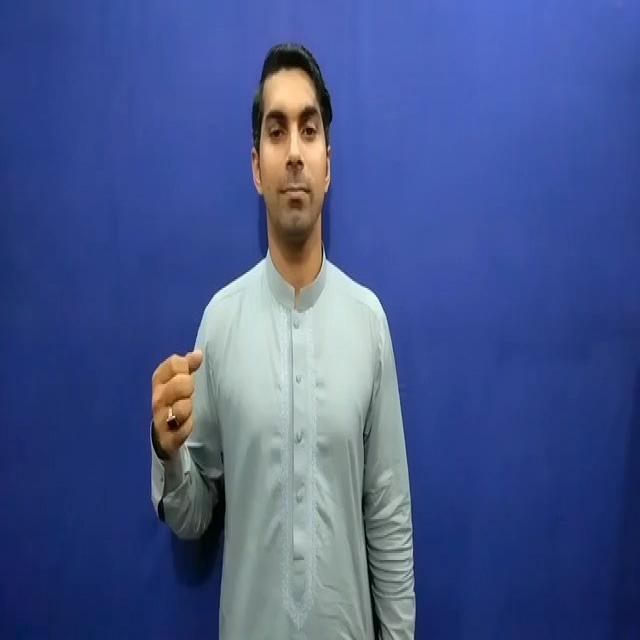milk: (122, 306, 224, 548)
